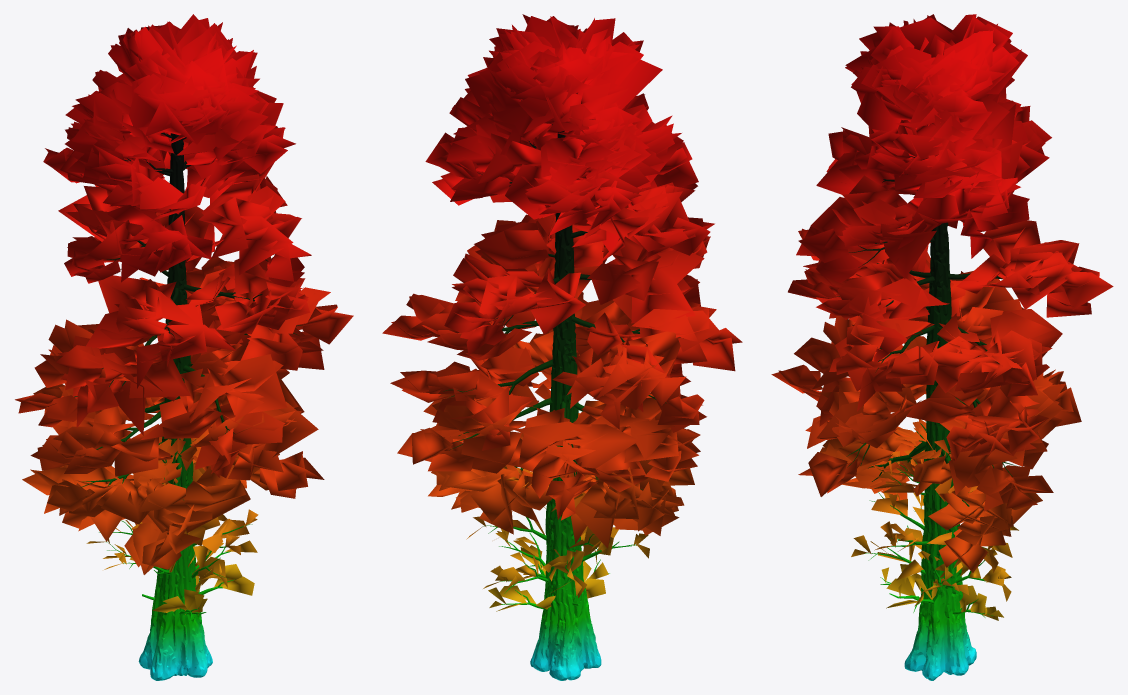
Rendered from Sequoia5.fbx.
The picture shows the model from 3 angles, left to right: view 1: azimuth 30°, elevation 25°; view 2: azimuth 150°, elevation 25°; view 3: azimuth 270°, elevation 25°; orthographic projection.
Visible parts, largest first — view 1: Sequoia5_LOD0; view 2: Sequoia5_LOD0; view 3: Sequoia5_LOD0.
Boxes of the visible parts, x1,y1,x2,y2 form: Sequoia5_LOD0: (15, 14, 353, 680); Sequoia5_LOD0: (382, 14, 742, 680); Sequoia5_LOD0: (771, 14, 1113, 680).
Size of what is drawn, in the model's own units: 2062 by 4501 by 2164.
